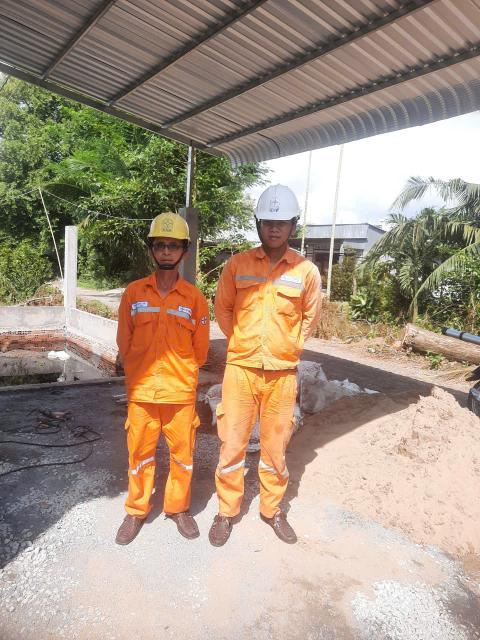helmet: (253, 165, 310, 228), (140, 218, 196, 248)
shoes: (262, 491, 307, 549), (162, 501, 208, 549), (116, 501, 150, 554), (202, 506, 241, 545)
